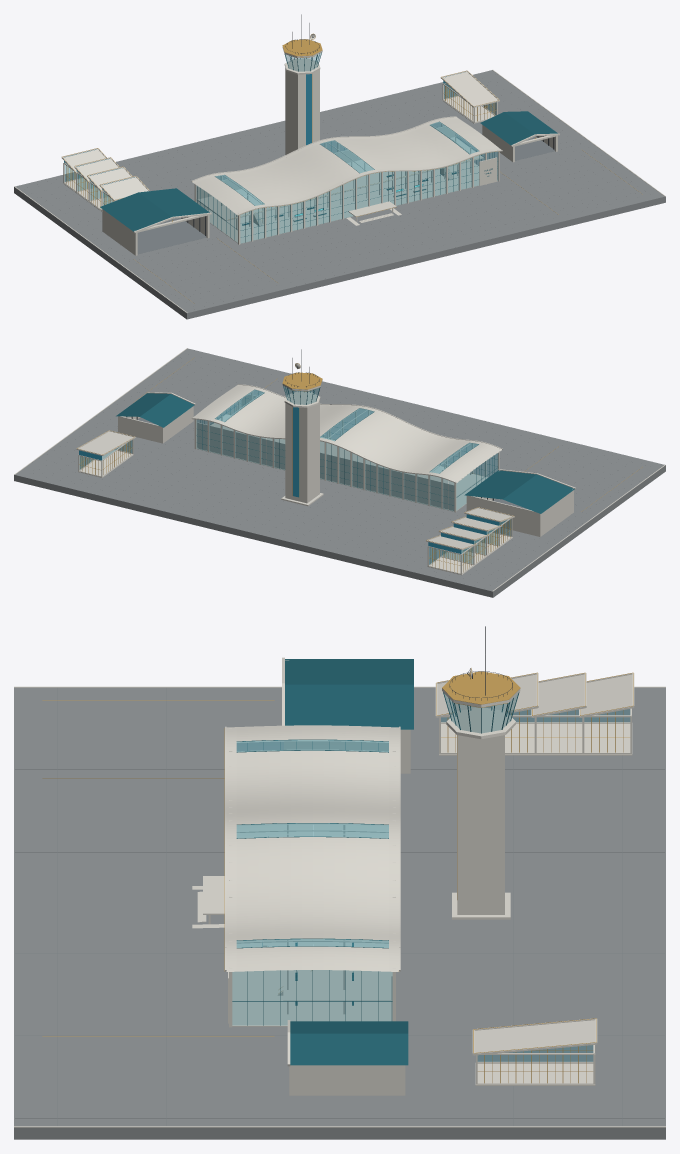
Rendered from Horizon.glb.
3 renders of one model, top to bottom at view 1: azimuth 30°, elevation 25°; view 2: azimuth 150°, elevation 25°; view 3: azimuth 270°, elevation 25°, orthographic. The views are drawn at different scales.
Parts seen in each view (by area): view 1: GW Paving, GW Ivory, GW Glass, GW Teal, GW Gold, GW Joint, GW Glass Highlight, GW Glass Dark; view 2: GW Paving, GW Ivory, GW Glass, GW Teal, GW Gold, GW Glass Highlight, GW Glass Dark; view 3: GW Paving, GW Ivory, GW Teal, GW Glass, GW Glass Highlight, GW Gold, GW Joint.
Part boxes in pixels (left/top/right/bottom): GW Paving: left=14, top=70, right=665, bottom=319; GW Ivory: left=14, top=34, right=665, bottom=312; GW Glass: left=64, top=53, right=497, bottom=243; GW Teal: left=100, top=52, right=557, bottom=242; GW Gold: left=62, top=33, right=642, bottom=303; GW Joint: left=46, top=95, right=644, bottom=298; GW Glass Highlight: left=68, top=84, right=490, bottom=205; GW Glass Dark: left=64, top=73, right=460, bottom=189; GW Paving: left=14, top=348, right=665, bottom=597; GW Ivory: left=14, top=348, right=665, bottom=591; GW Glass: left=80, top=386, right=510, bottom=564; GW Teal: left=116, top=385, right=574, bottom=513; GW Gold: left=77, top=357, right=642, bottom=572; GW Glass Highlight: left=81, top=389, right=504, bottom=563; GW Glass Dark: left=79, top=407, right=499, bottom=553; GW Paving: left=14, top=687, right=665, bottom=1139; GW Ivory: left=14, top=657, right=665, bottom=1127; GW Teal: left=232, top=659, right=519, bottom=1065; GW Glass: left=232, top=693, right=629, bottom=1061; GW Glass Highlight: left=236, top=714, right=598, bottom=1061; GW Gold: left=42, top=668, right=633, bottom=1083; GW Joint: left=15, top=688, right=664, bottom=1125.
Bounding box in the file's own units: 960 × 297 × 600.
